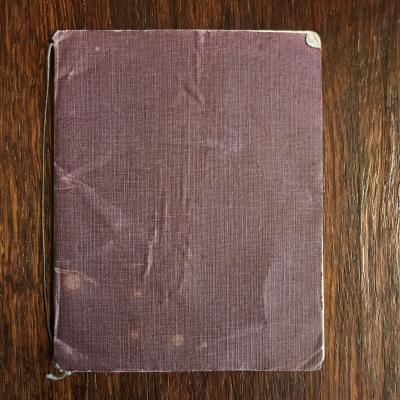document: (45, 29, 325, 375)
